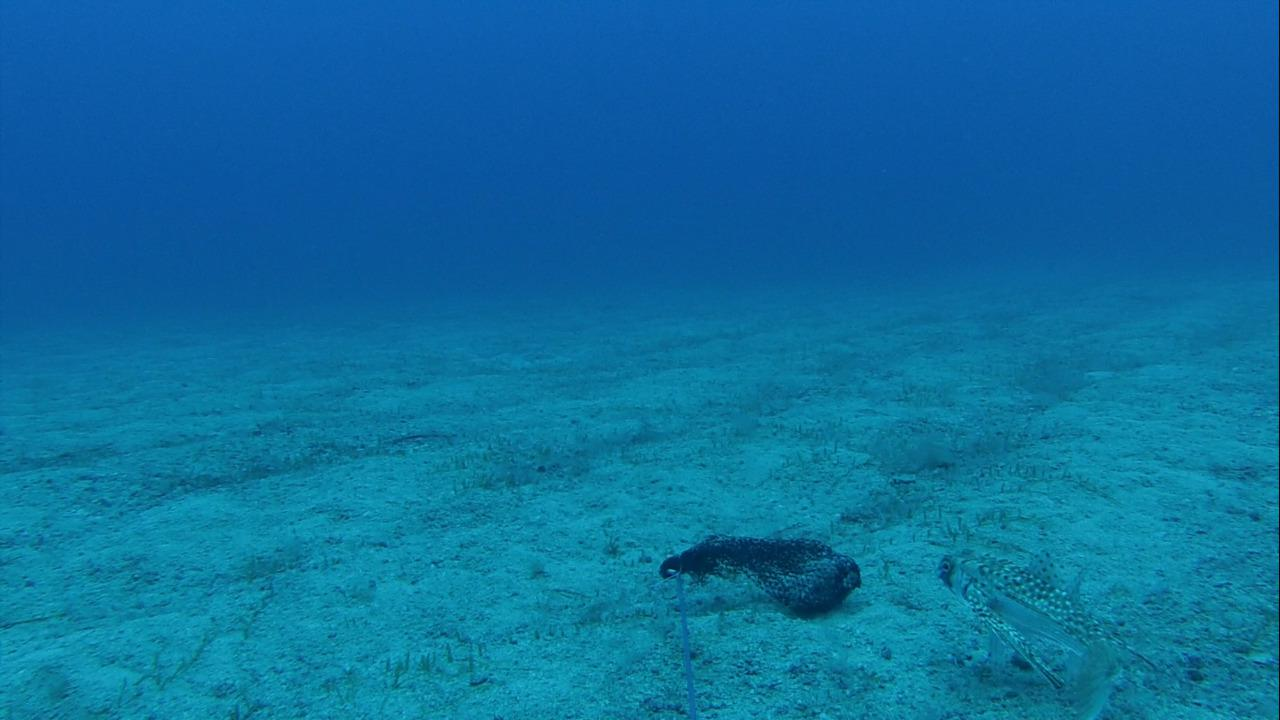dactylopterus: (925, 543, 1136, 716)
